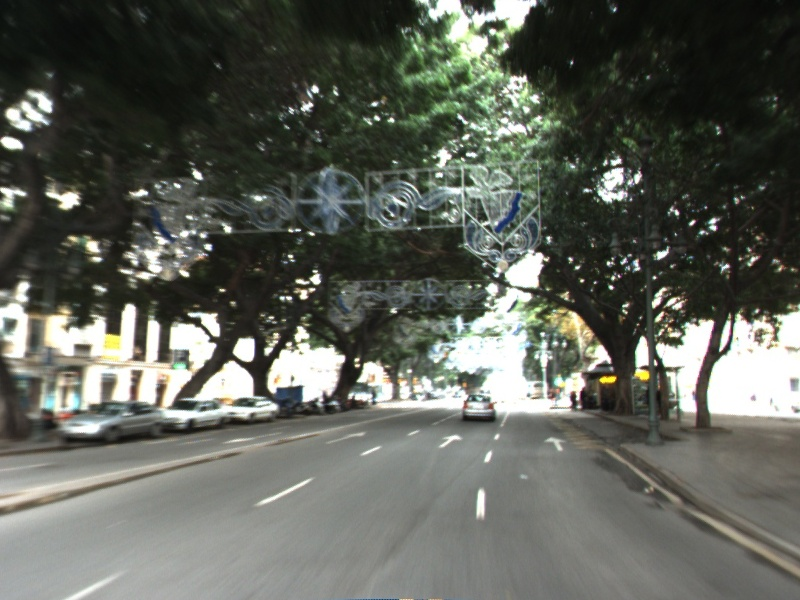STRAIGHT: (323, 429, 370, 446), (541, 434, 569, 453), (436, 433, 466, 450)
